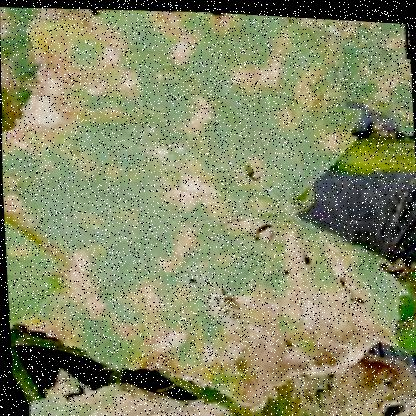Anthracnose: (156, 225, 378, 410), (144, 18, 333, 229), (0, 2, 190, 179), (2, 171, 142, 362)
